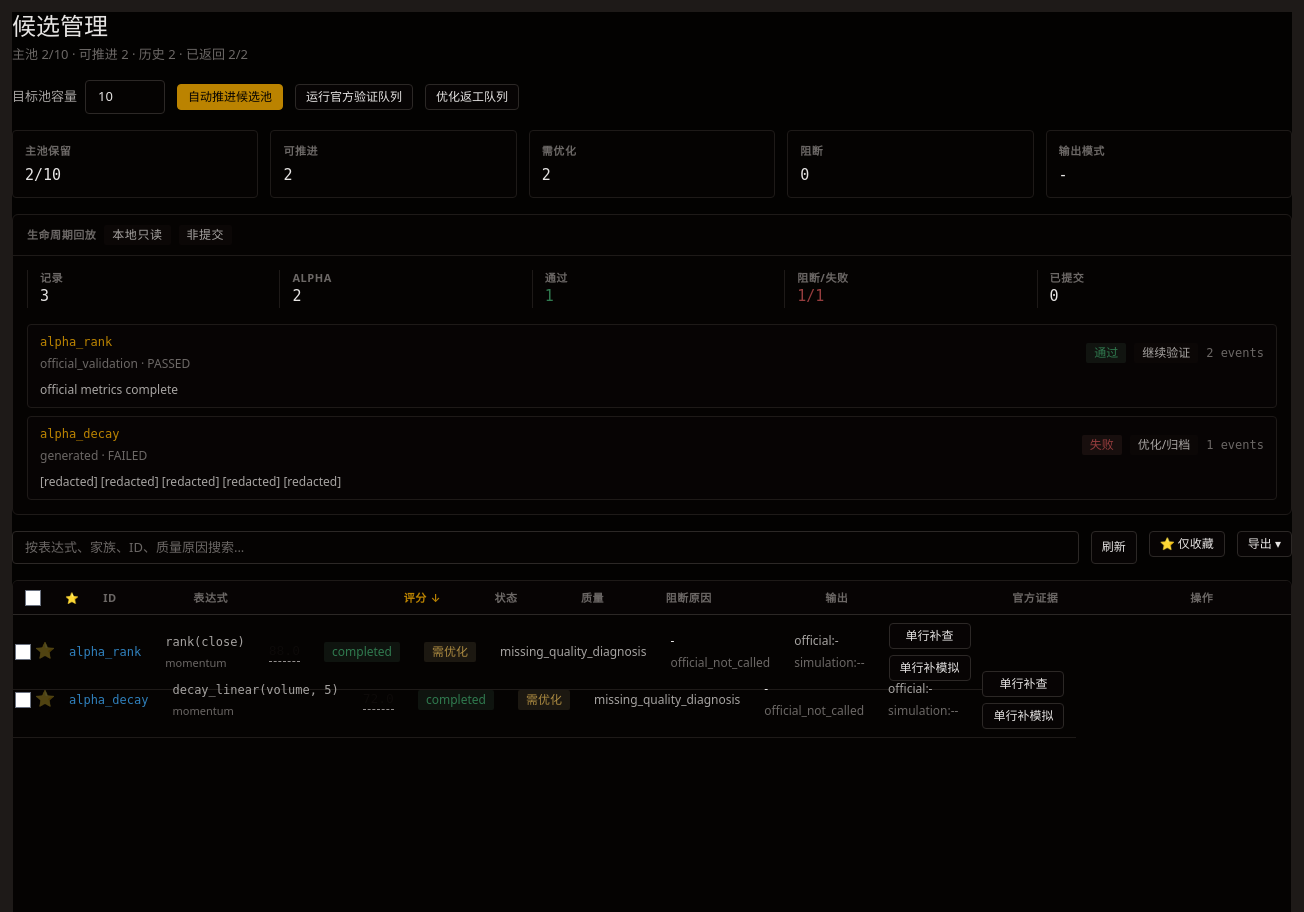
Scenario: CandidateTable › renders local-only lifecycle replay evidence without affecting candidate filters
The width and height of the screenshot is (1304, 912).
Expected: the text "alpha_rank" is shown, [40,335,112,349]
Expected: the element "生命周期回放" shows "本地只读", [112,226,162,243]
Type "rank" into the field named "过滤候选".
click(545, 547); type("rank")  # box [12,531,1079,564]
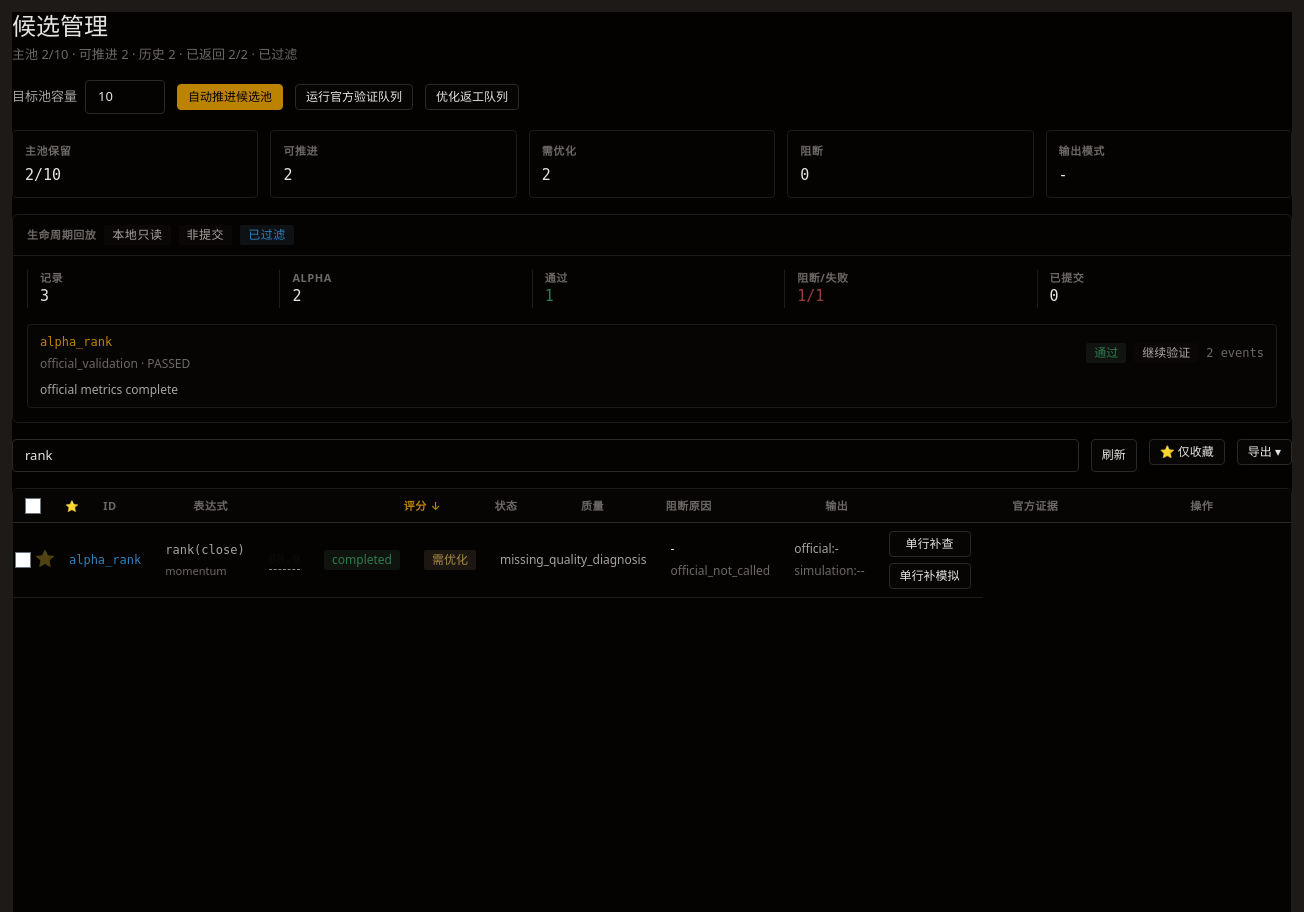
Expected: the text "alpha_rank" is shown, [40,335,112,349]
Expected: the text "alpha_decay" is gone
